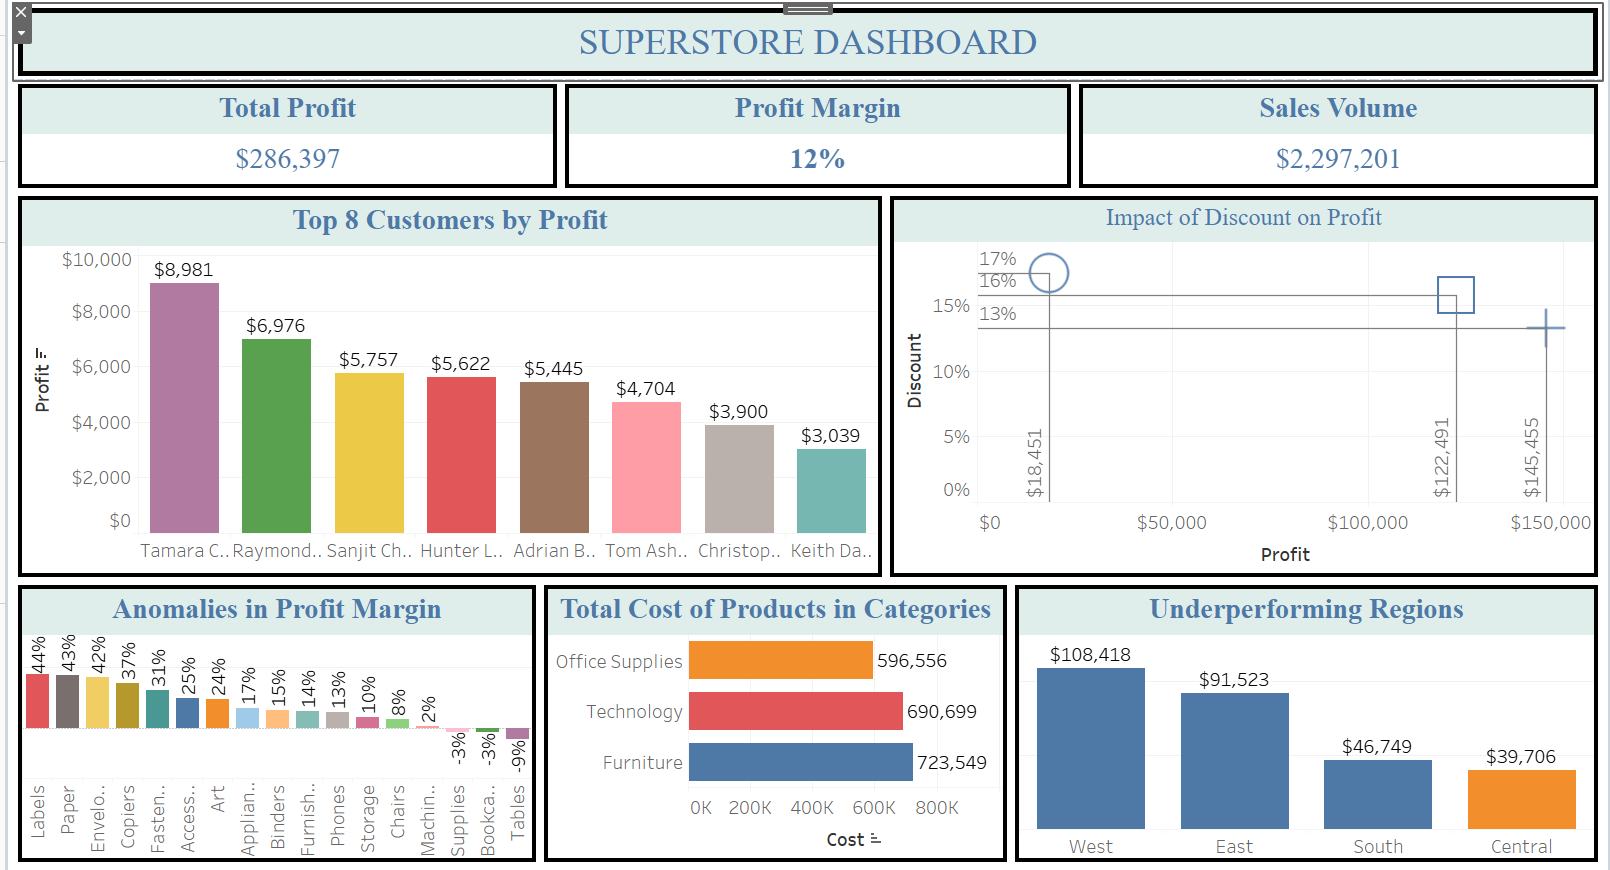

The page's visual inventory and layout, read from the dashboard file:
{"tool":"tableau","page":{"name":"Dashboard 1","canvas":[1000,1000],"units":"permille","ordinal":0},"visuals":[{"type":"text","box":[5,9.1,990,86.5]},{"type":"worksheet","title":"Total Profit","mark":"Automatic","box":[5,95.7,341,127.6]},{"type":"worksheet","title":"Profit Margin","mark":"Automatic","box":[346,95.7,320.4,127.6]},{"type":"worksheet","title":"Sales Volume","mark":"Automatic","box":[666.5,95.7,328.6,127.6]},{"type":"worksheet","title":"Top 8 Customers by Profit","mark":"Automatic","rows":["Profit"],"cols":["Customer Name"],"box":[5,223.2,543.6,443.1]},{"type":"worksheet","title":"Impact of Discount on Profit","mark":"Automatic","rows":["Discount"],"cols":["Profit"],"box":[548.6,223.2,446.4,443.1]},{"type":"worksheet","title":"Anomalies in Profit Margin","mark":"Automatic","rows":["Calculation_1821987589900144641"],"cols":["Sub-Category"],"box":[5,666.3,327.9,324.6]},{"type":"worksheet","title":"Total Cost of Products in Categories","mark":"Automatic","rows":["Category"],"cols":["Calculation_903253268373102592"],"box":[332.9,666.3,293.6,324.6]},{"type":"worksheet","title":"Underperforming Regions","mark":"Automatic","rows":["Profit"],"cols":["Region"],"box":[626.6,666.3,368.5,324.6]}]}

Visuals, with their boxes on the dashboard's canvas, which has no fixed pixel size, in thousandths of its width and height (x1, y1, x2, y2). These are canvas units, not pixel positions in the 1610x870 screenshot, which may show the page scaled, cropped or inside an application window:
text: (5, 9, 995, 96)
"Total Profit" worksheet: (5, 96, 346, 223)
"Profit Margin" worksheet: (346, 96, 666, 223)
"Sales Volume" worksheet: (666, 96, 995, 223)
"Top 8 Customers by Profit" worksheet: (5, 223, 549, 666)
"Impact of Discount on Profit" worksheet: (549, 223, 995, 666)
"Anomalies in Profit Margin" worksheet: (5, 666, 333, 991)
"Total Cost of Products in Categories" worksheet: (333, 666, 626, 991)
"Underperforming Regions" worksheet: (627, 666, 995, 991)
